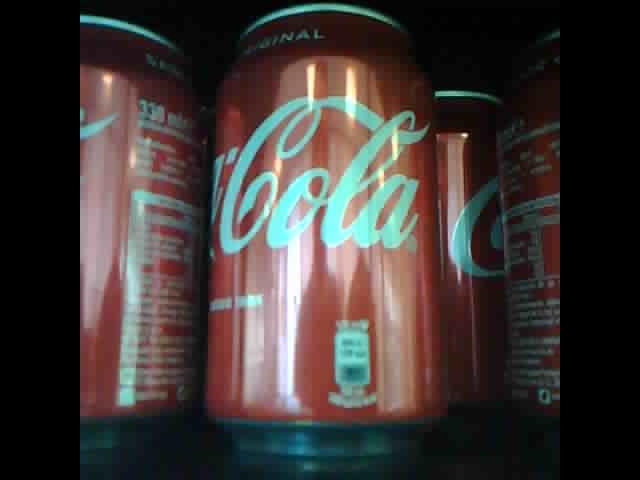coca cola: (202, 10, 441, 438), (80, 16, 201, 436), (430, 80, 503, 409), (503, 86, 561, 414)
